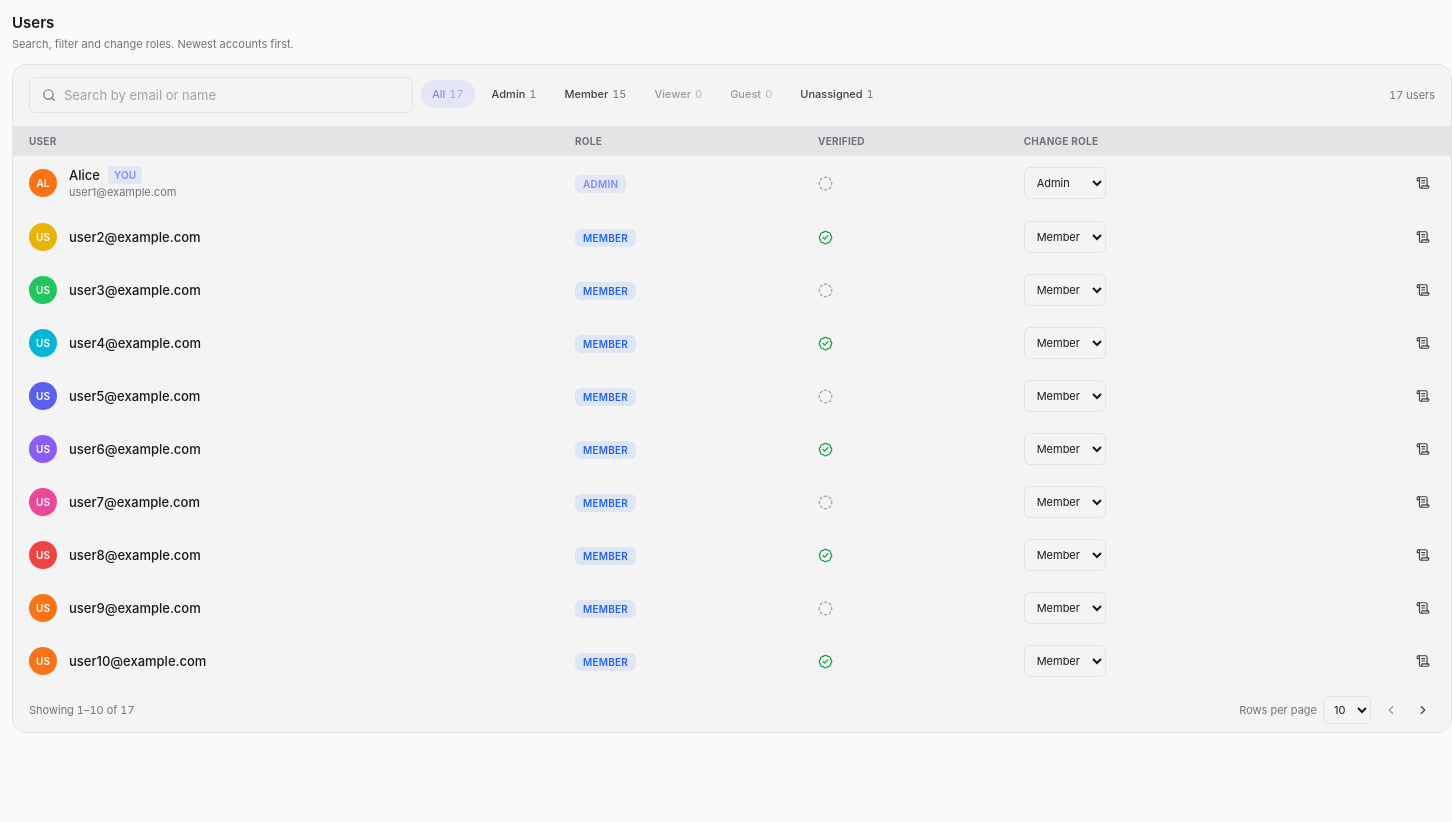
Test: UsersSection › asks for ten users a page and pages from the footer
Expected: the text "user2@example.com" is shown, x1=69 y1=228 x2=201 y2=246
Expected: the navigation bar named "Users pagination" shows "Showing 1–10 of 17", x1=29 y1=703 x2=135 y2=717
Click the button named "Next page": (1423, 710) x1=1411 y1=698 x2=1435 y2=722
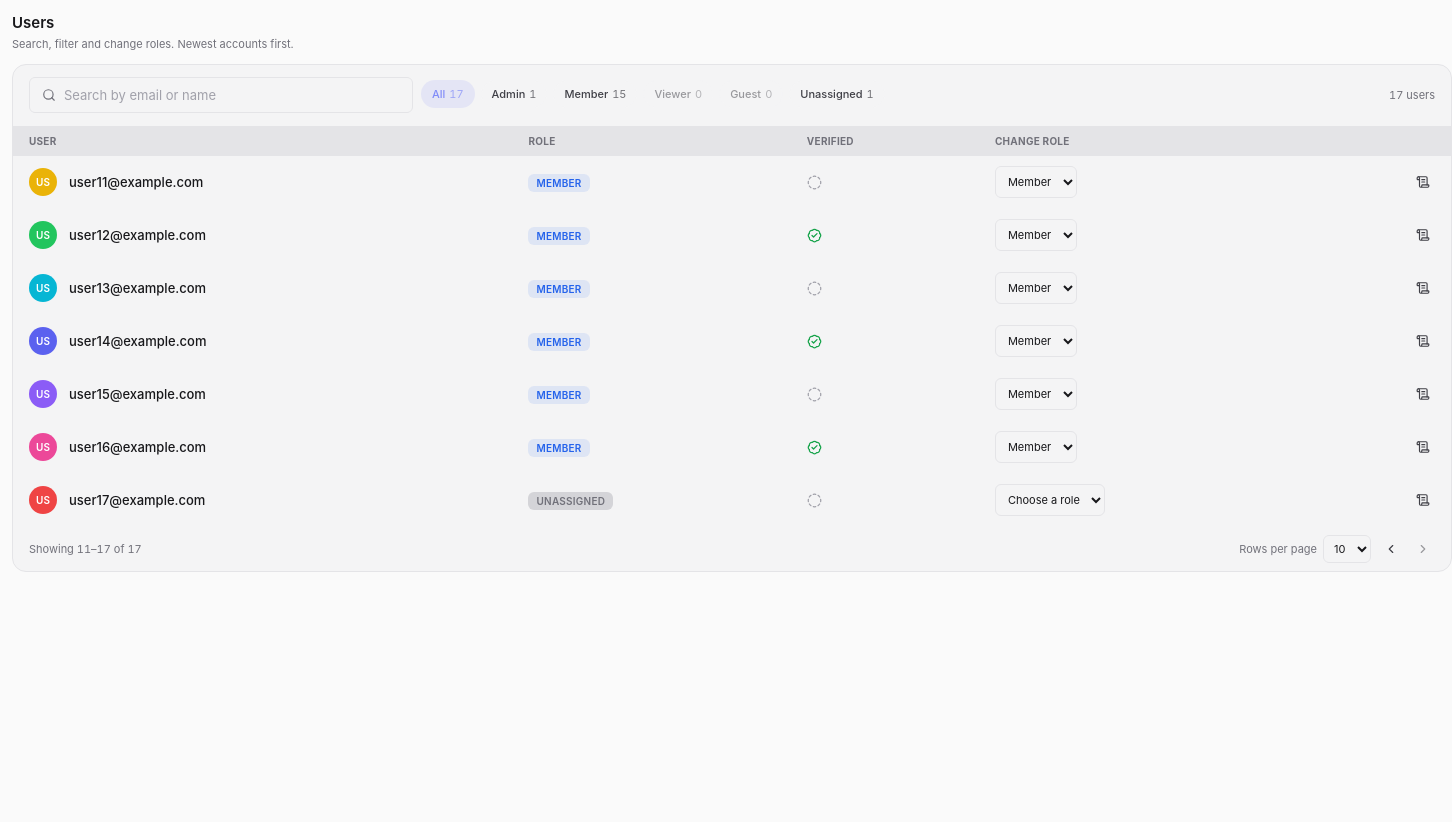
Now the text "user17@example.com" is shown, box x1=69 y1=491 x2=205 y2=509
Now the navigation bar named "Users pagination" shows "Showing 11–17 of 17", box x1=29 y1=542 x2=142 y2=556
Now the button named "Next page" is disabled, box x1=1411 y1=537 x2=1435 y2=561
